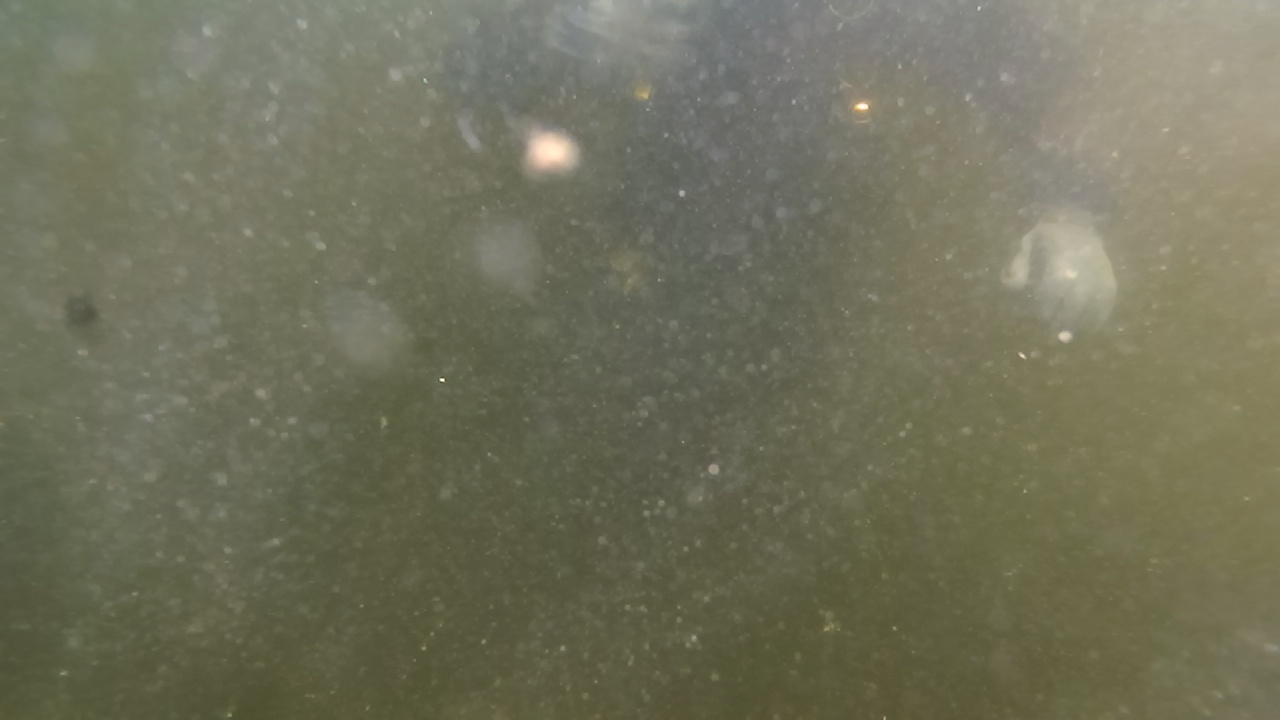Hand: (976, 210, 1118, 336)
